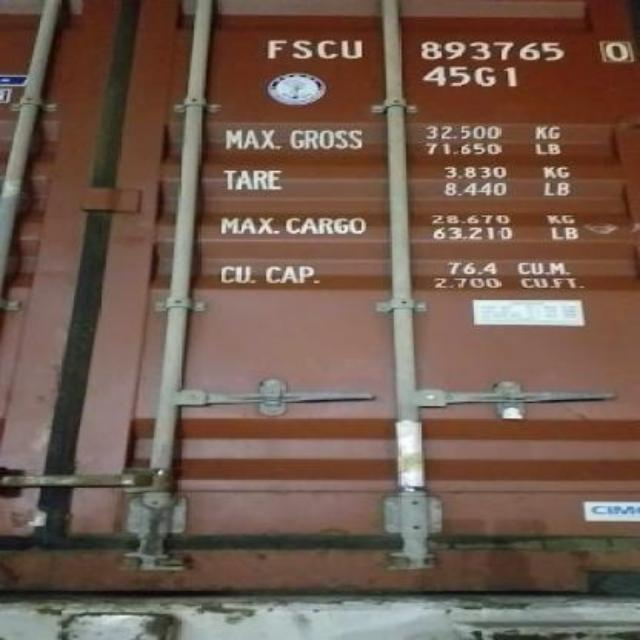0: (598, 34, 634, 64)
3: (468, 32, 489, 64)
5: (544, 37, 568, 67)
6: (514, 32, 542, 66)
7: (492, 36, 516, 62)
8: (422, 36, 440, 66)
9: (441, 34, 462, 64)
C: (316, 29, 340, 65)
F: (262, 32, 284, 64)
S: (290, 34, 314, 62)
U: (338, 33, 368, 63)
